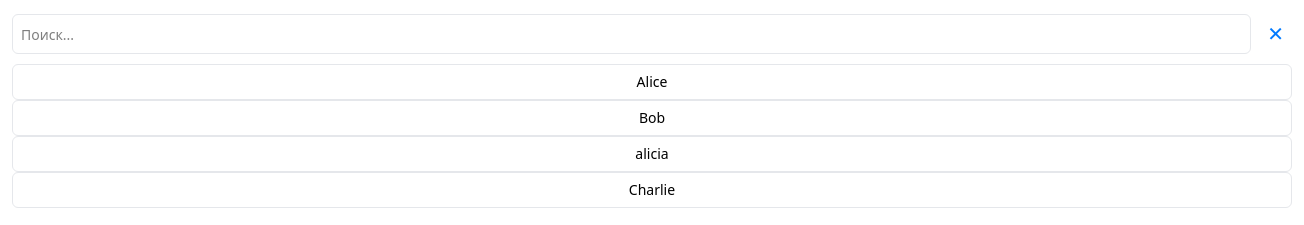
Test: UserSearch - filtering logic › filters users whose nick contains the query (case-insensitive)
Step 1. Type "ali" into the field with placeholder "Поиск..." → (632, 34), box [12,14,1251,54]
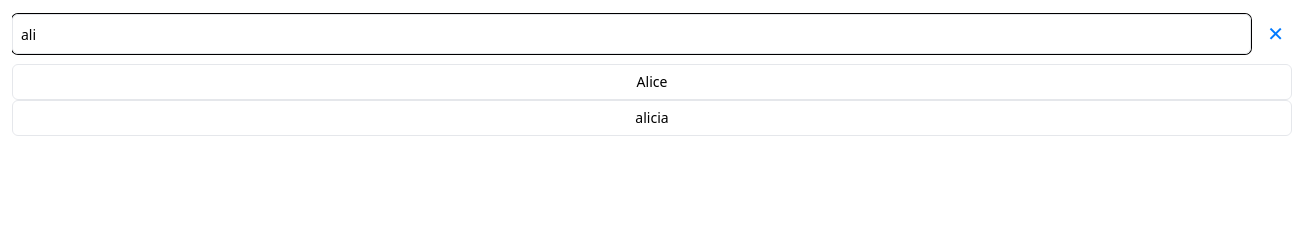
Expected: the button "Alice" is shown, [12,64,1292,100]
Expected: the button "Bob" is gone
Expected: the button "Charlie" is gone
